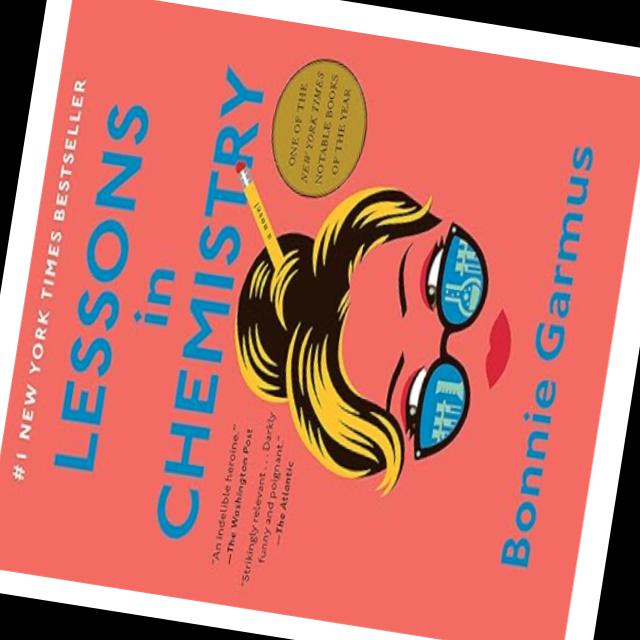titles-or-authors: (36, 31, 284, 554), (491, 131, 607, 587)
